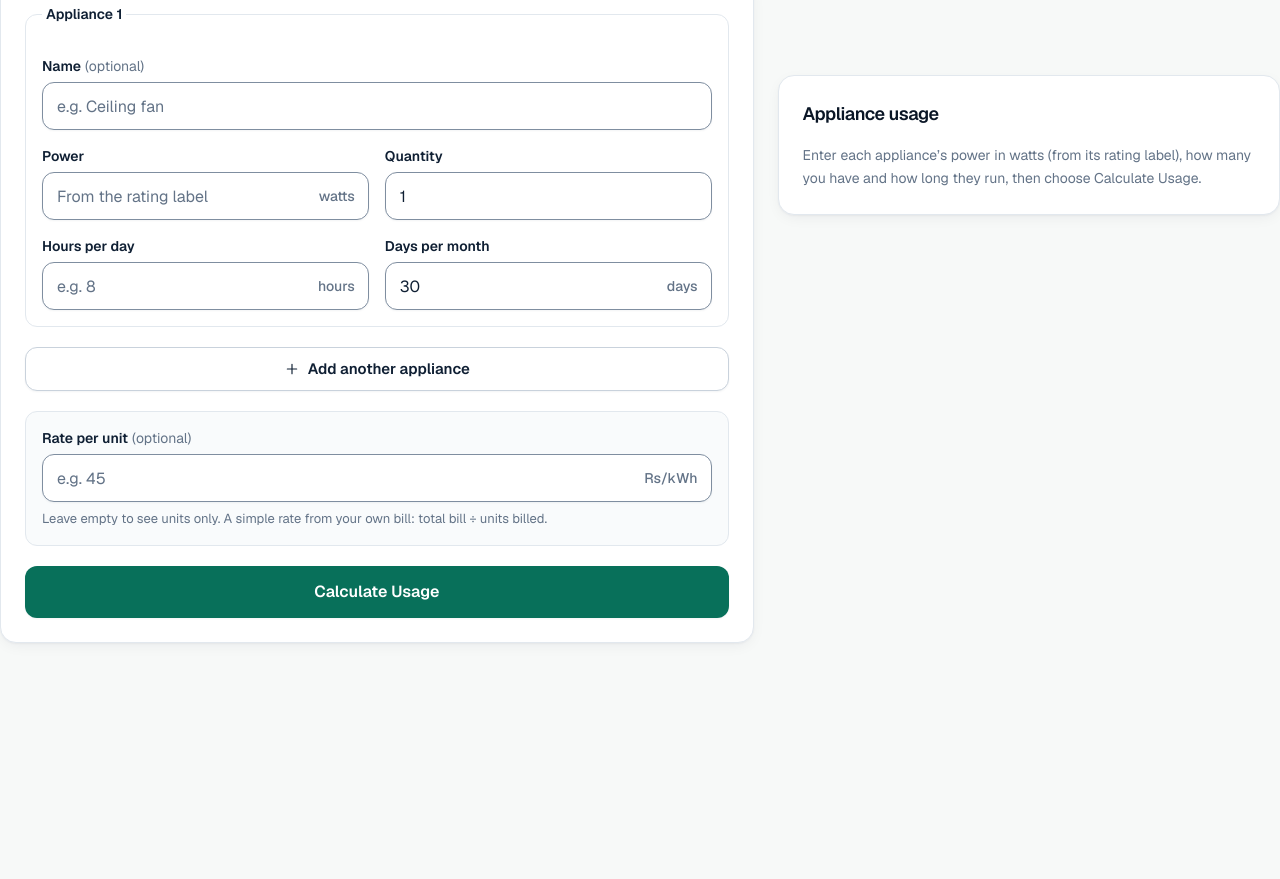
Test: appliance calculator › totals several appliances and estimates cost at the user's rate
Type "100" into the field labelled "Power" at x=205, y=196, box 42,172 -> 369,220
Type "24" into the field labelled "Hours per day" at x=205, y=286, box 42,262 -> 369,310
Click the button "Add another appliance" at x=377, y=369, box 25,347 -> 729,391
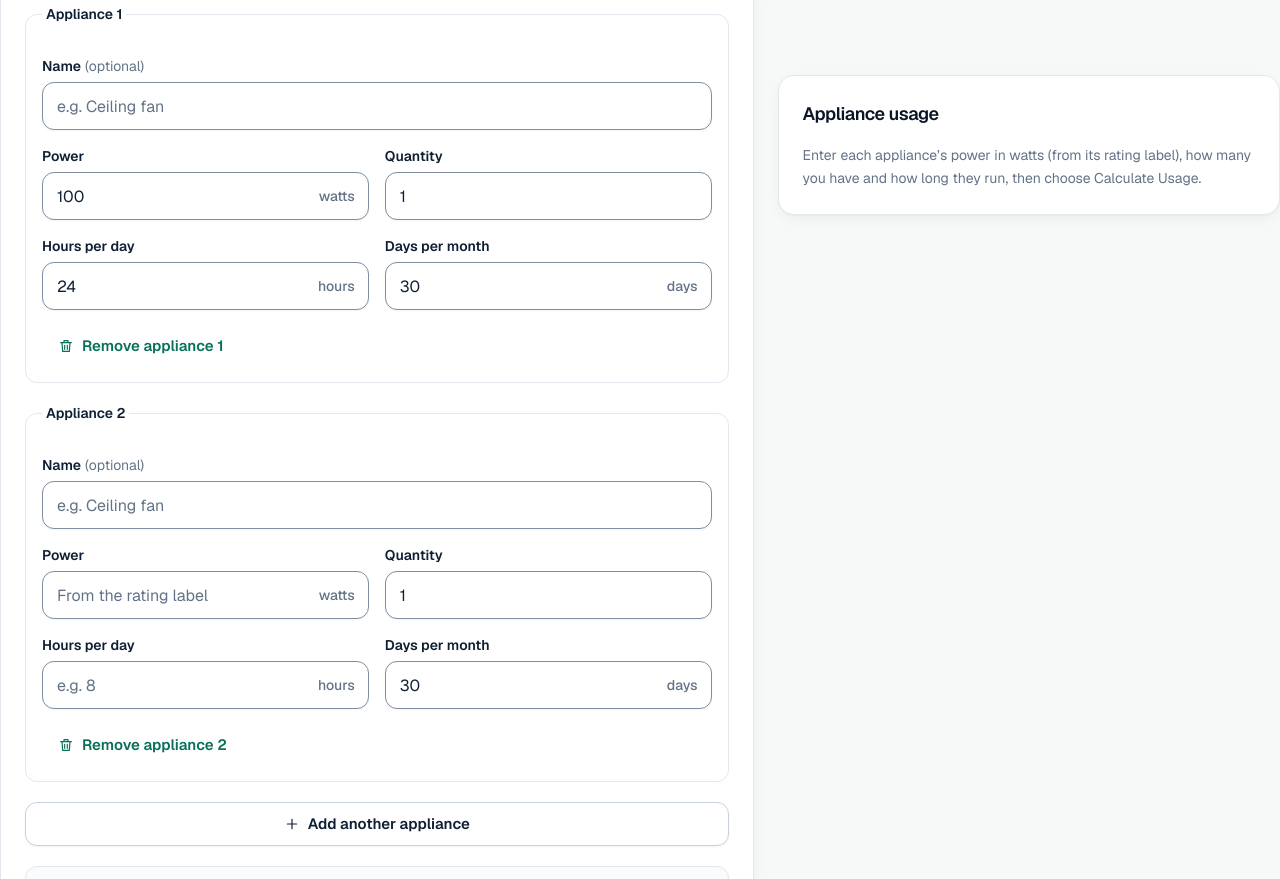
Type "75" into the 2nd field labelled "Power" at x=205, y=595, box 42,571 -> 369,619
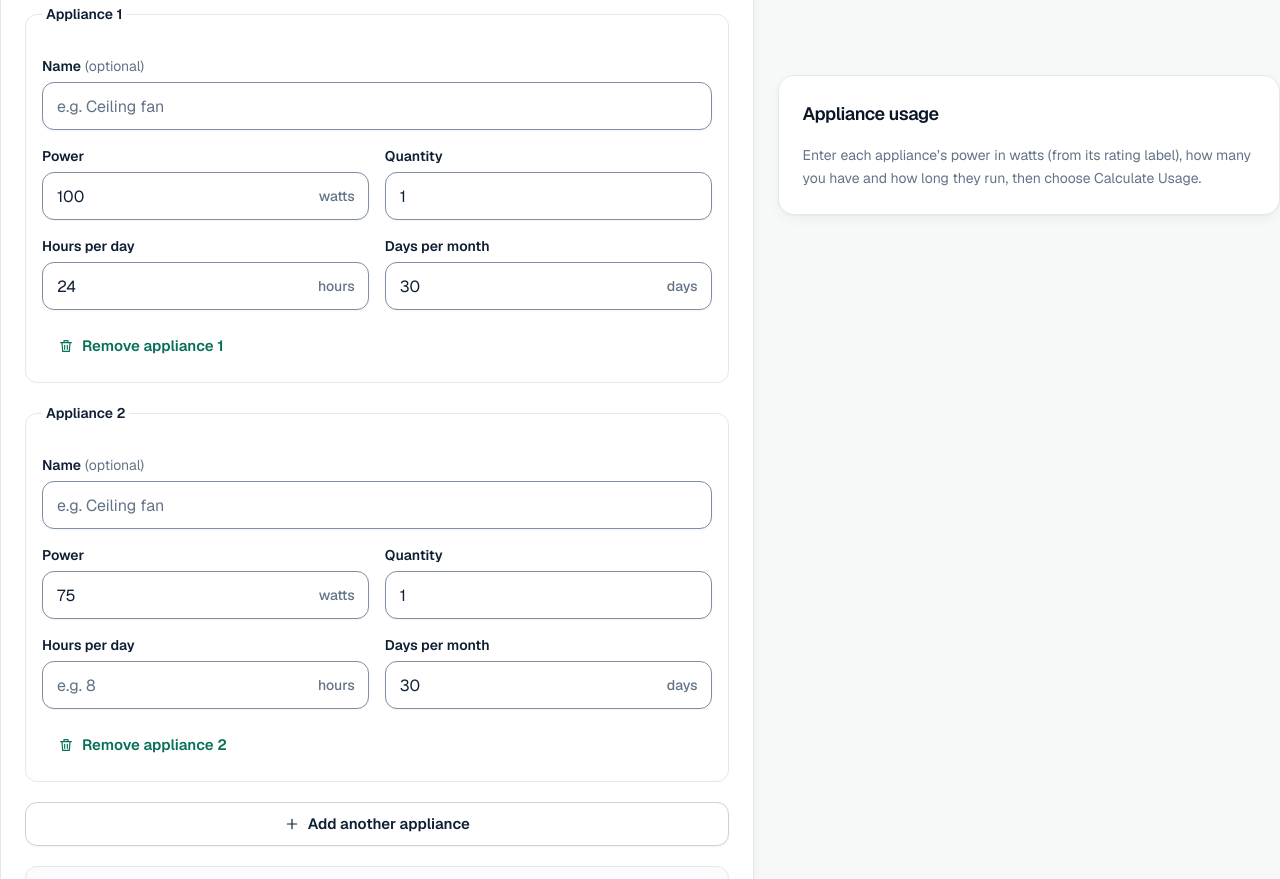
Replace the text in the 2nd field labelled "Quantity" with "3" at x=548, y=595, box 385,571 -> 712,619
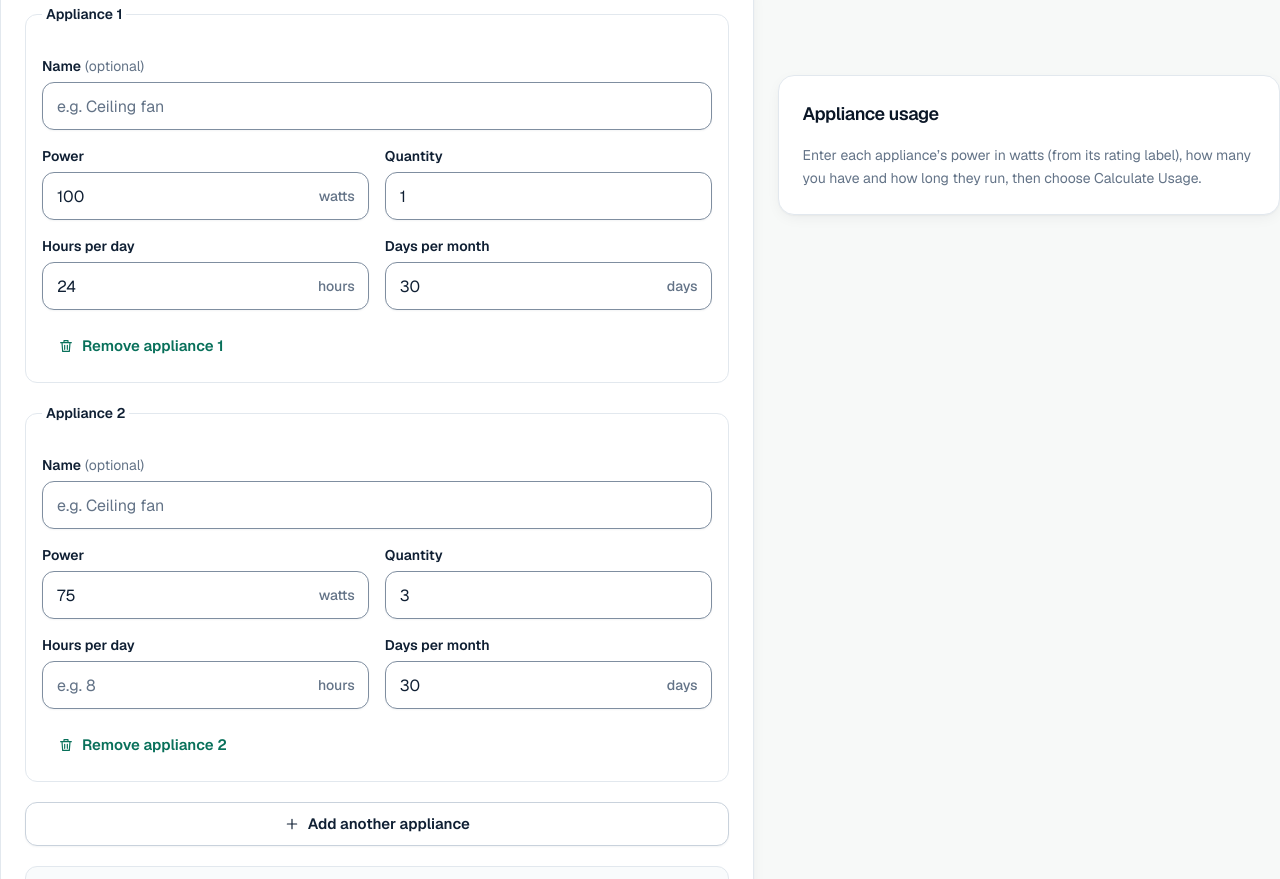
Type "10" into the 2nd field labelled "Hours per day" at x=205, y=685, box 42,661 -> 369,709
(page scrolled)
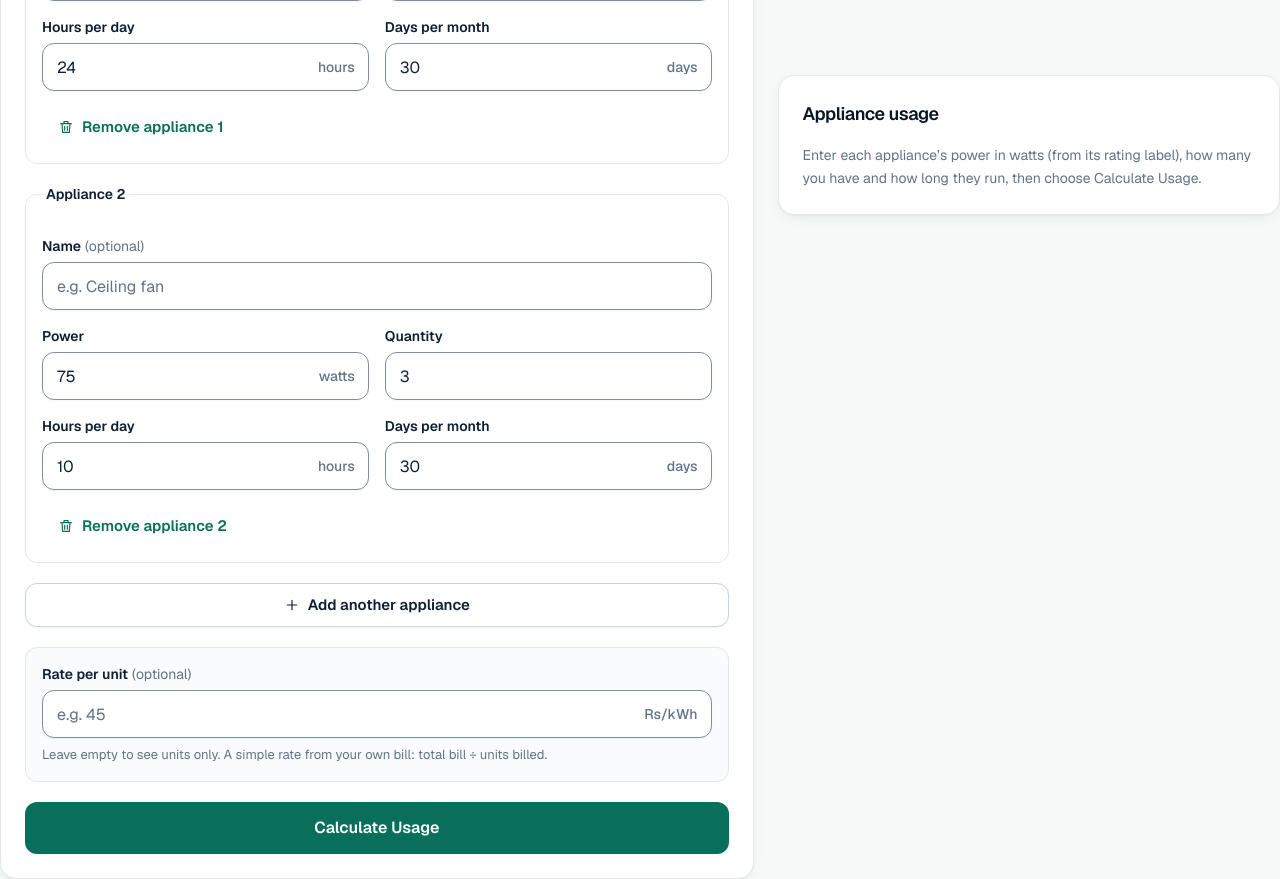
Type "40" into the field labelled "Rate per unit(optional)" at x=377, y=714, box 42,690 -> 712,738
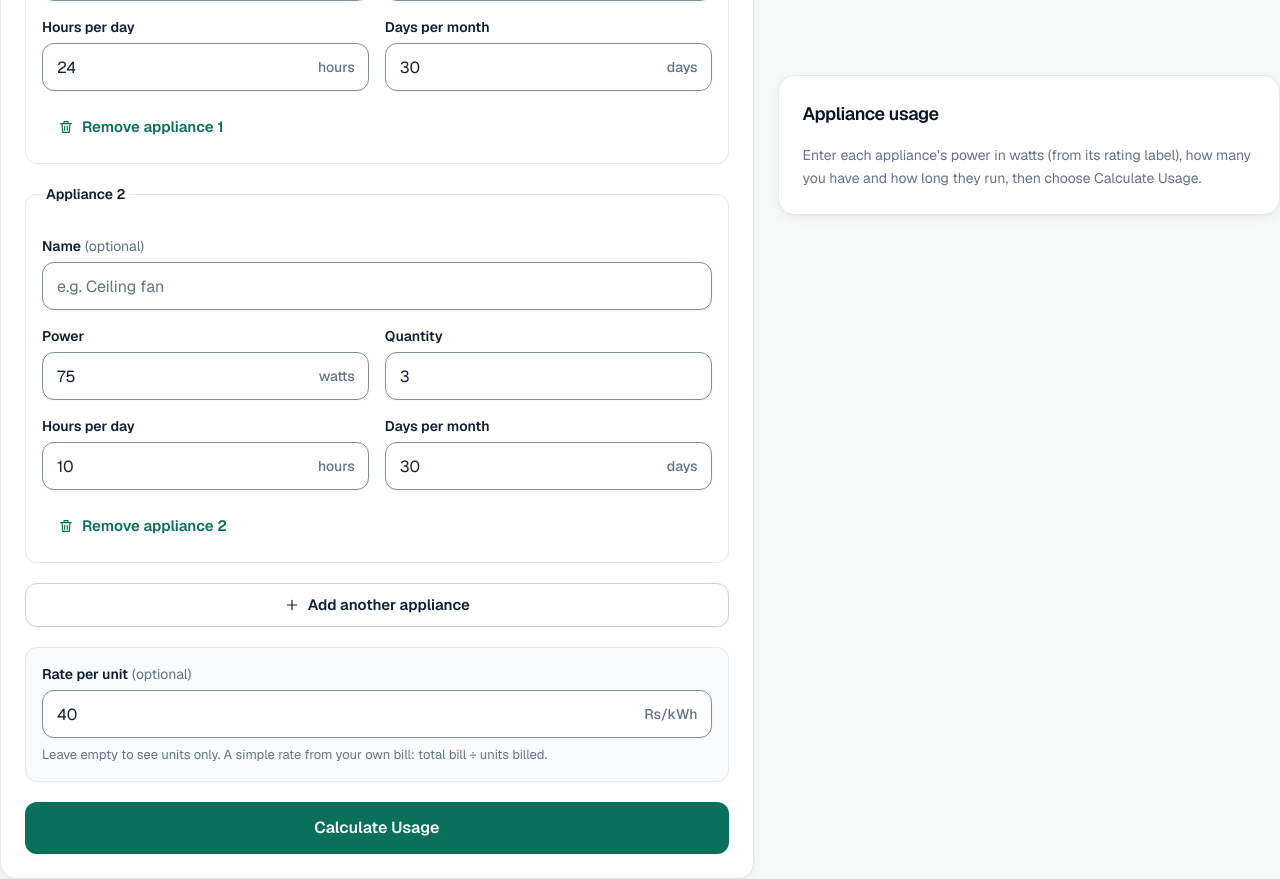
Click the button "Calculate Usage" at x=377, y=828, box 25,802 -> 729,854
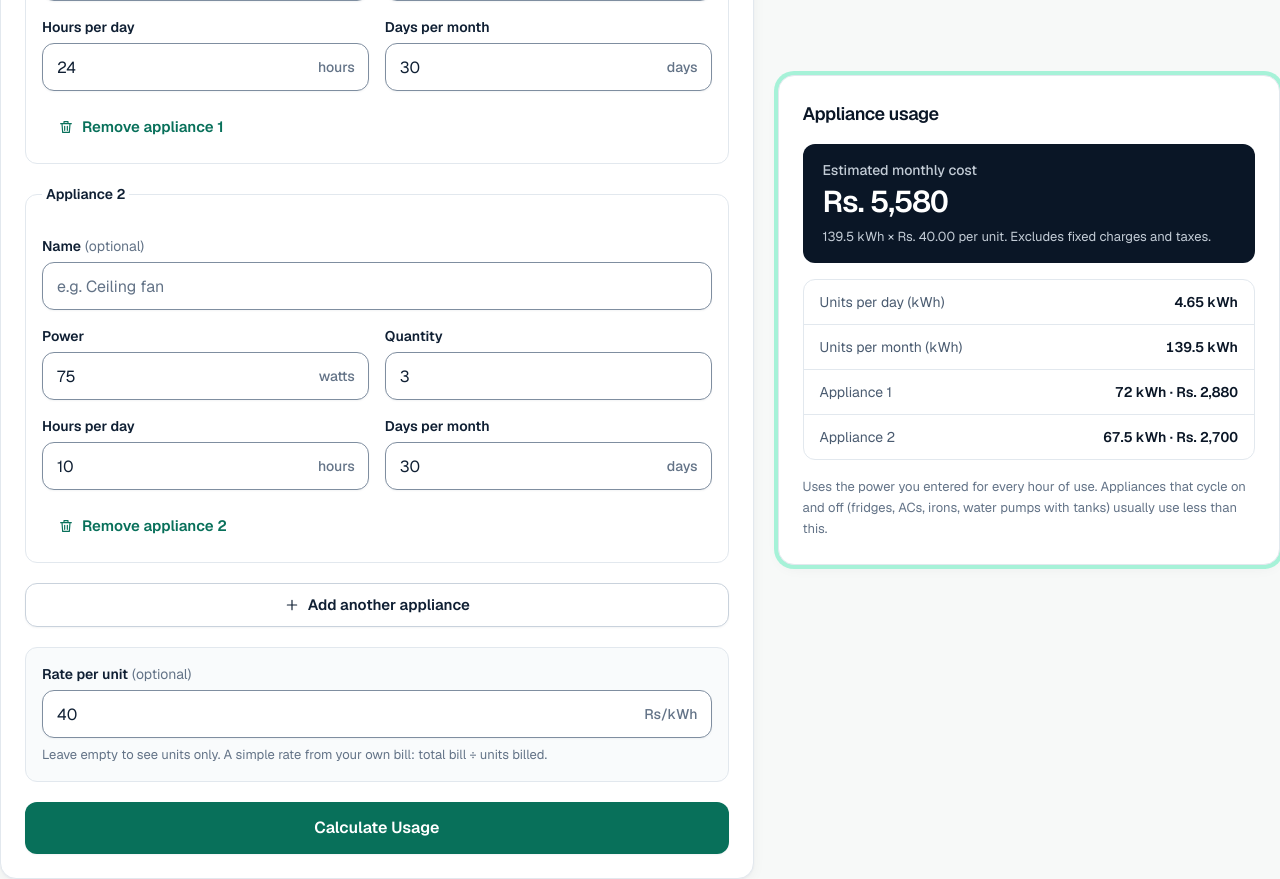
expect the text "Rs. 5,580" is shown: met, box 823,182 -> 948,221
